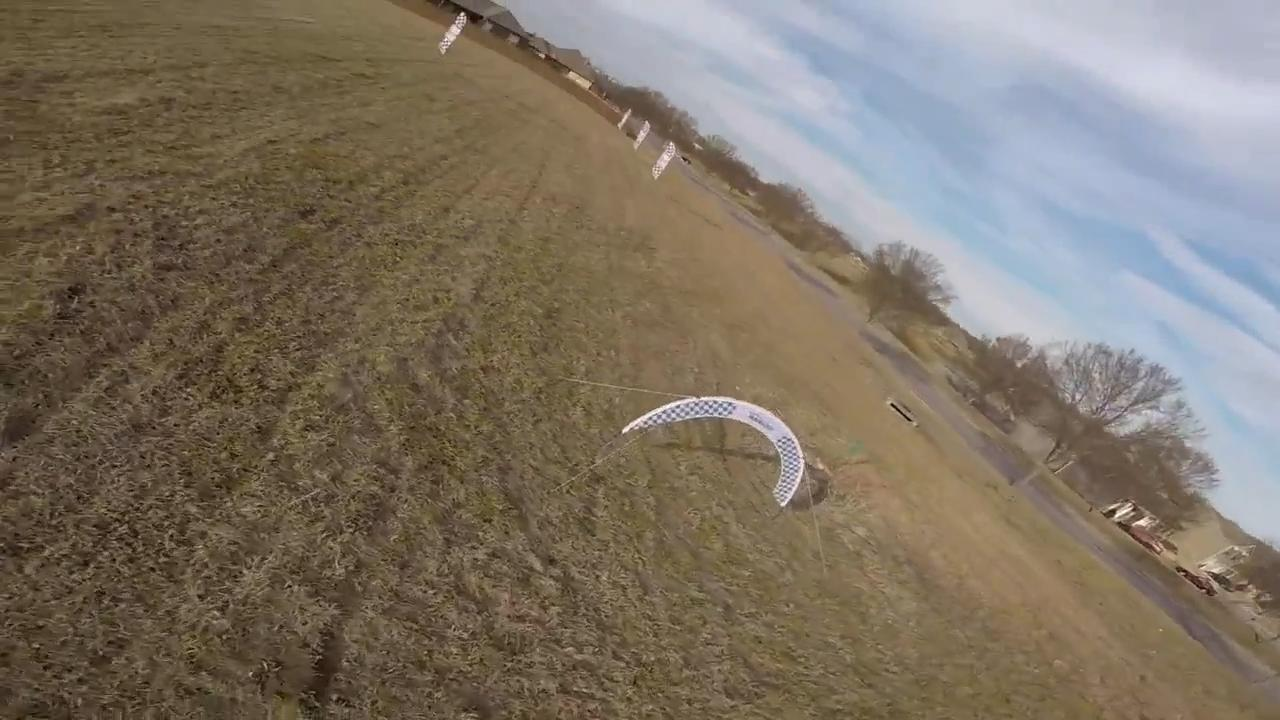gate: (615, 394, 810, 510)
